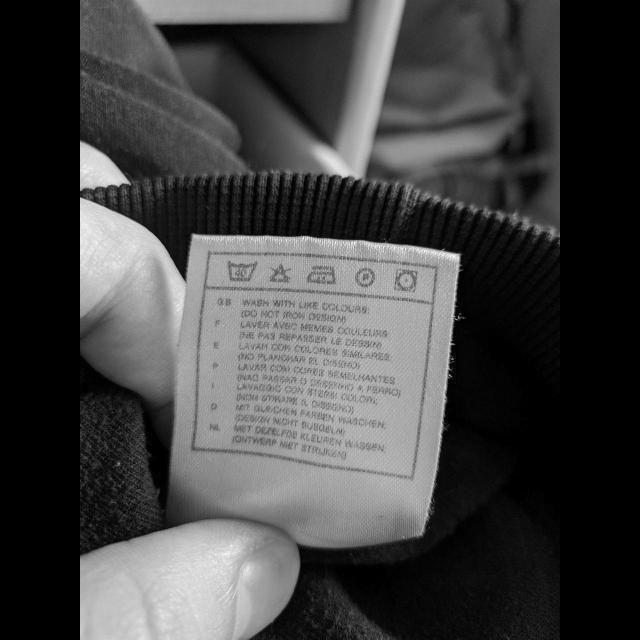40C: (224, 256, 260, 284)
DN_bleach: (266, 261, 292, 285)
iron_medium: (305, 264, 337, 286)
normal_dry_clean_solvents: (352, 264, 378, 290)
tumble_dry_low: (392, 267, 420, 293)
